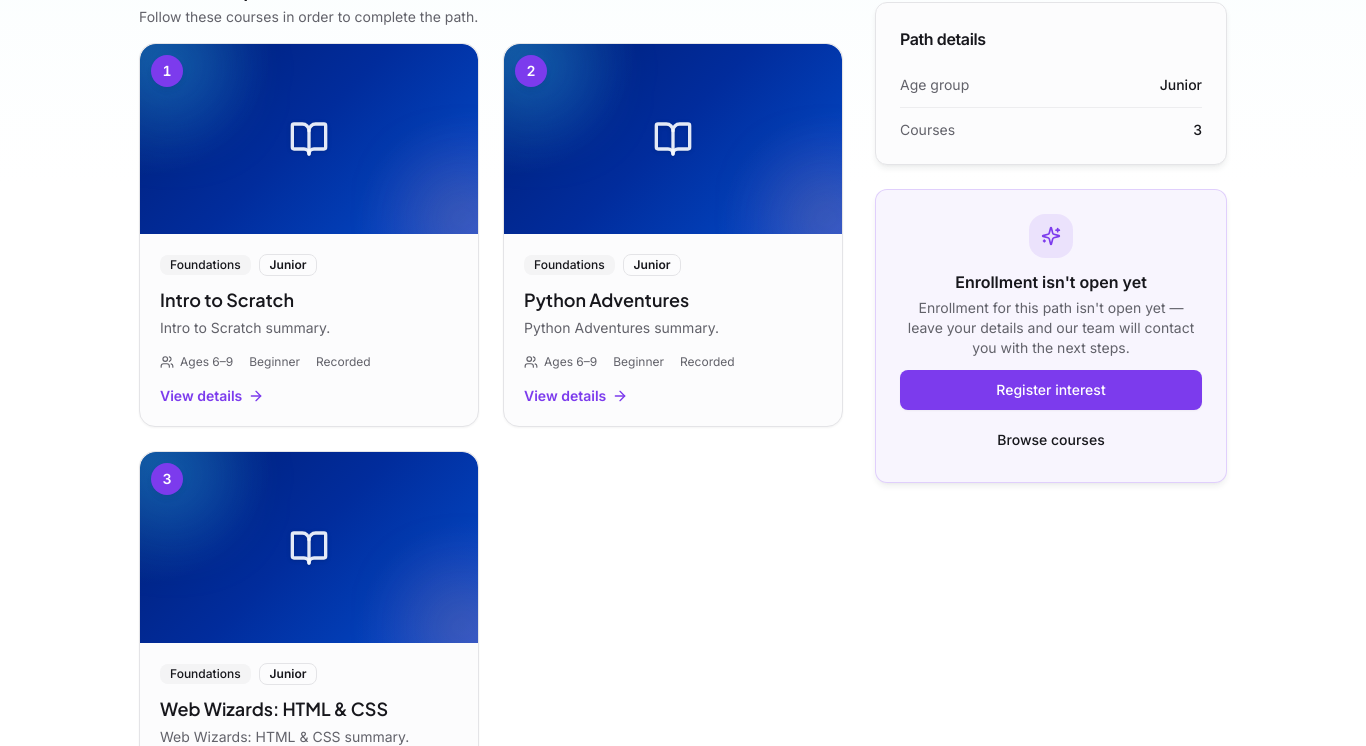
Scenario: LearningPathDetailView — rich path › shows an honest interest CTA that opens the form and never links to checkout/payment/progress
(page scrolled)
Click the button "Register interest" at (1051, 390), box [900,370,1202,410]
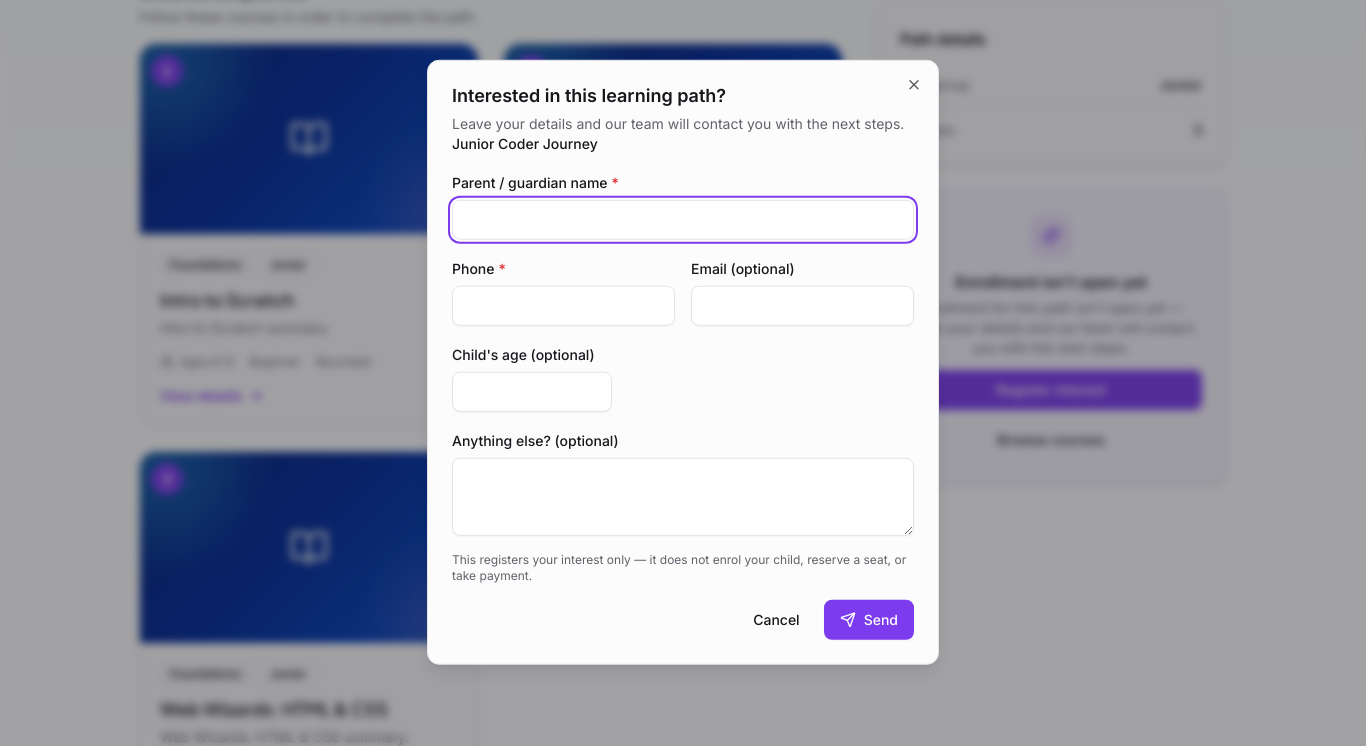
Expected: the heading "Interested in this learning path?" is shown, [452,85,726,106]
